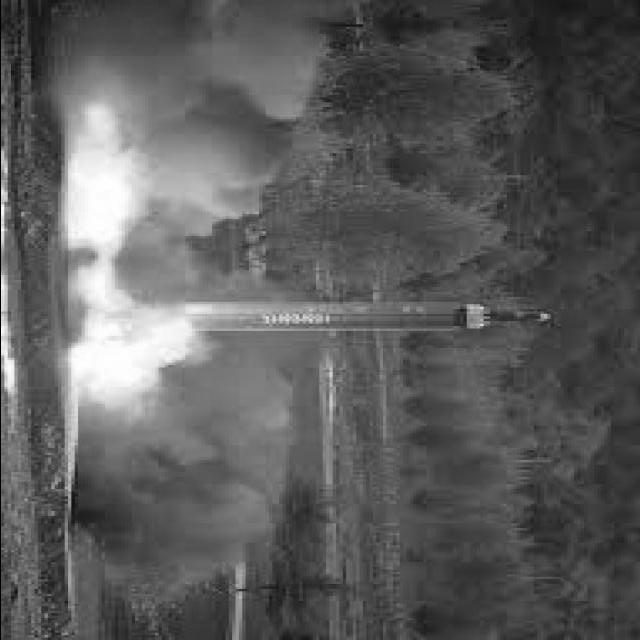missile: (156, 293, 560, 336)
